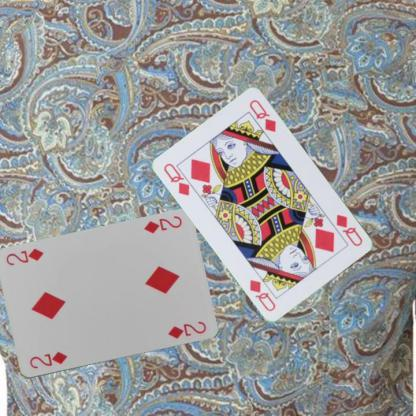2d: (26, 349, 68, 370), (141, 214, 183, 235)
Qd: (162, 161, 200, 197), (333, 211, 364, 248)
